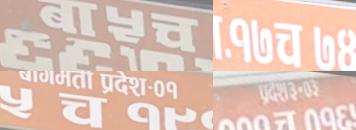0: (299, 106, 323, 130), (231, 113, 256, 130), (213, 115, 239, 130), (148, 76, 166, 97), (300, 79, 313, 97)
1: (222, 13, 255, 65), (117, 95, 163, 130), (315, 102, 339, 130), (247, 111, 276, 130), (193, 105, 213, 130), (160, 76, 179, 100)
3: (284, 79, 300, 100), (308, 75, 321, 95)
4: (328, 22, 356, 71)
5: (98, 0, 149, 46), (0, 81, 36, 123), (345, 98, 356, 130)
6: (0, 25, 59, 71), (51, 33, 119, 71), (331, 103, 352, 130)
7: (111, 43, 195, 71), (244, 14, 278, 70), (304, 19, 338, 71)
9: (155, 100, 199, 130)
ba: (32, 0, 101, 37), (213, 7, 229, 66), (13, 71, 39, 84)
cha: (144, 6, 207, 54), (49, 86, 111, 130), (265, 15, 309, 71), (267, 107, 301, 130)
